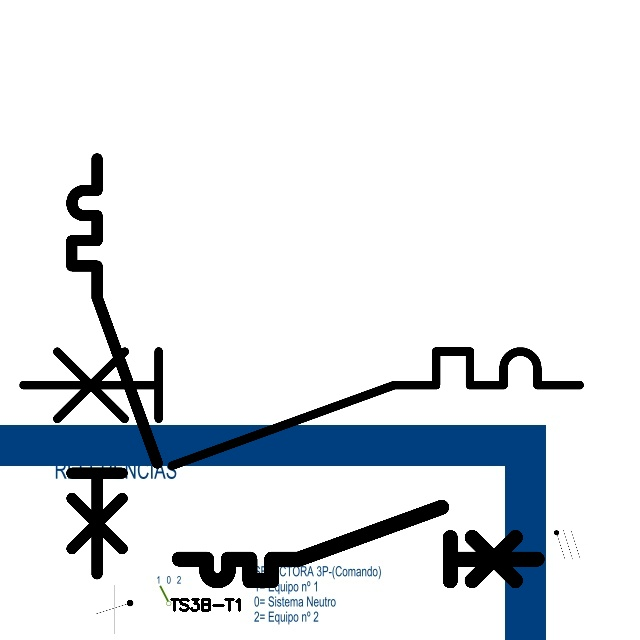interruptor_termomagnetico: (9, 337, 594, 480), (61, 148, 168, 585), (170, 498, 546, 590)
